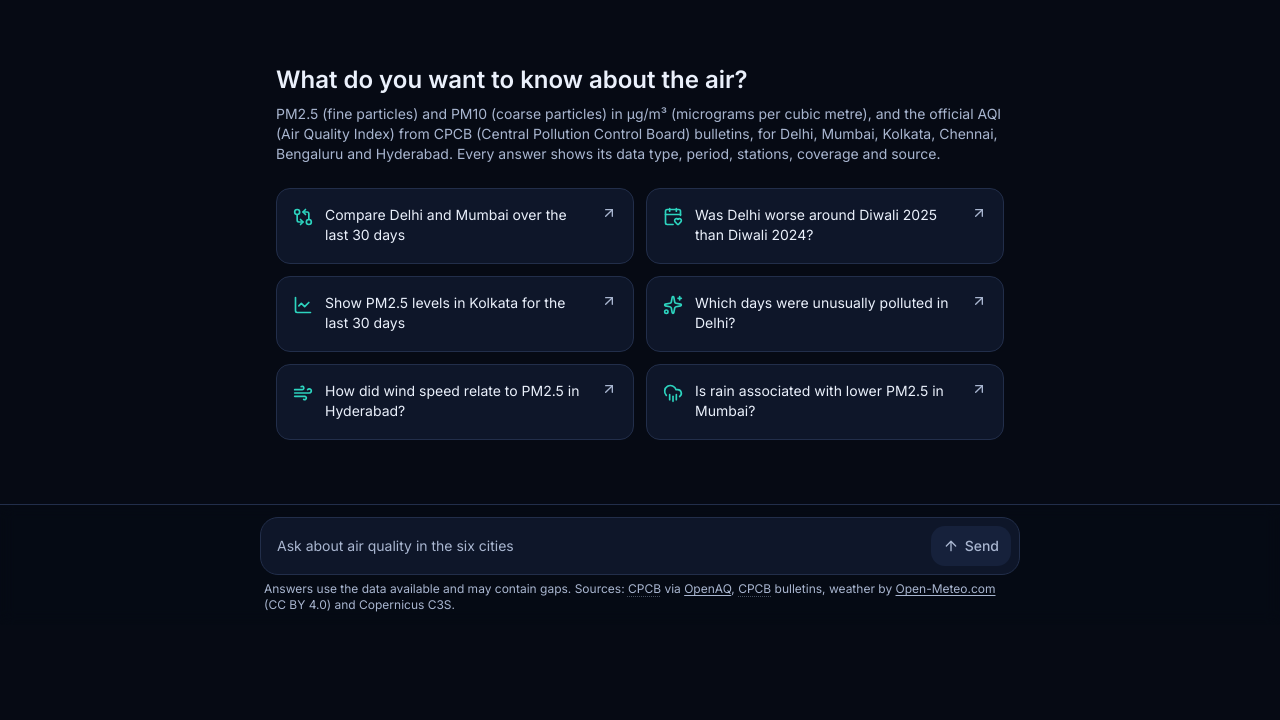
Test: Ask screen › request failed: plain message, no technical text, Retry
In the text box named "Your question": (596, 546) [269,526,923,566], type "q"
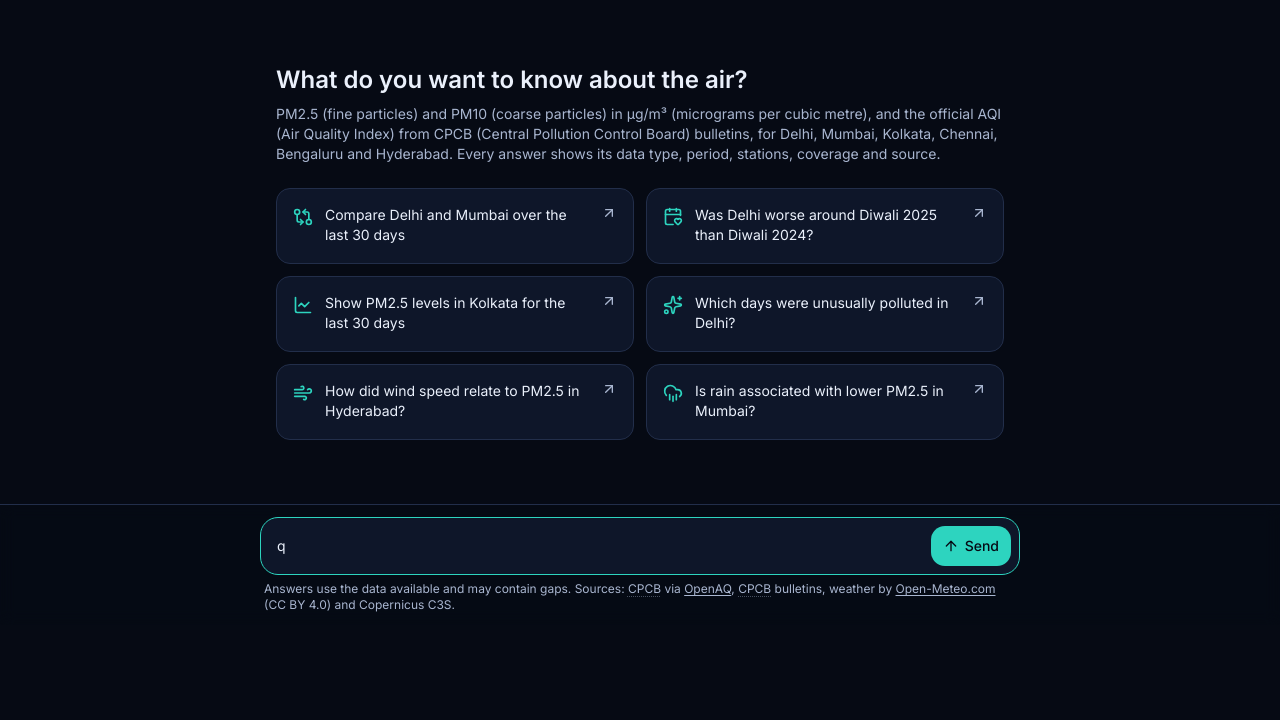
Press Enter
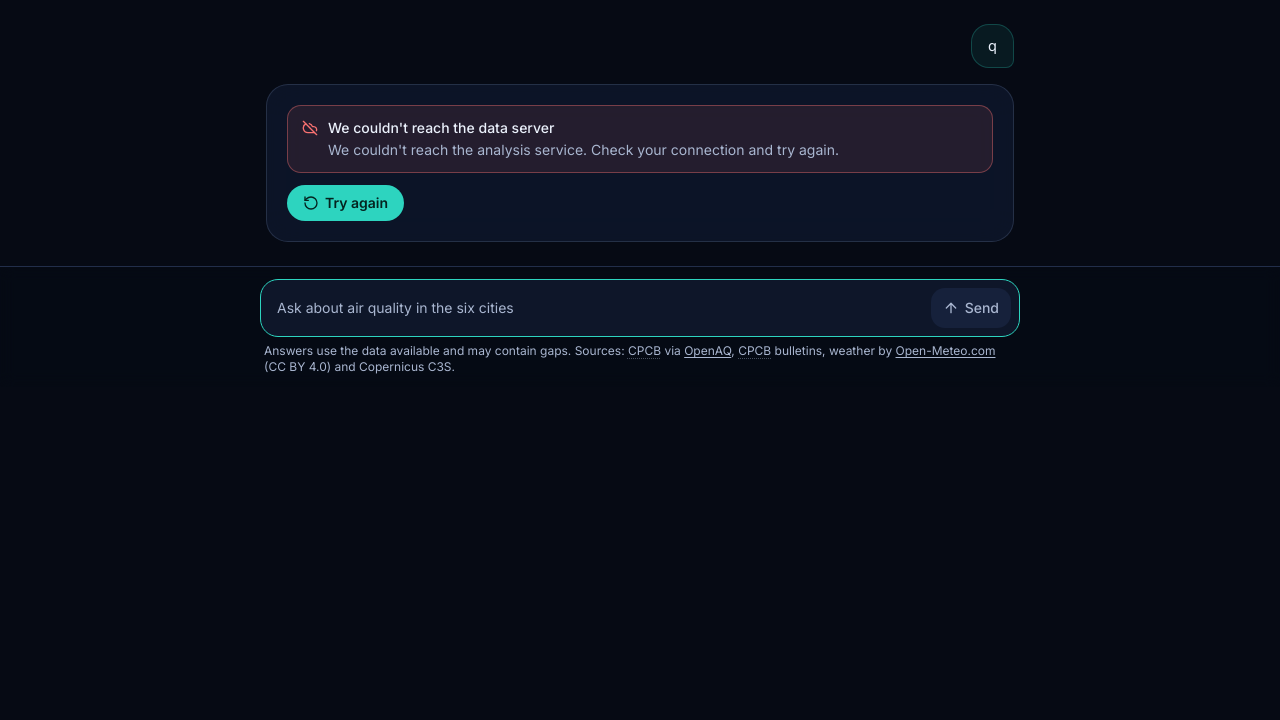
Expected: the text "We couldn't reach the data server" is shown, [328,119,554,136]
Expected: the button "Try again" is enabled, [287,185,404,221]
